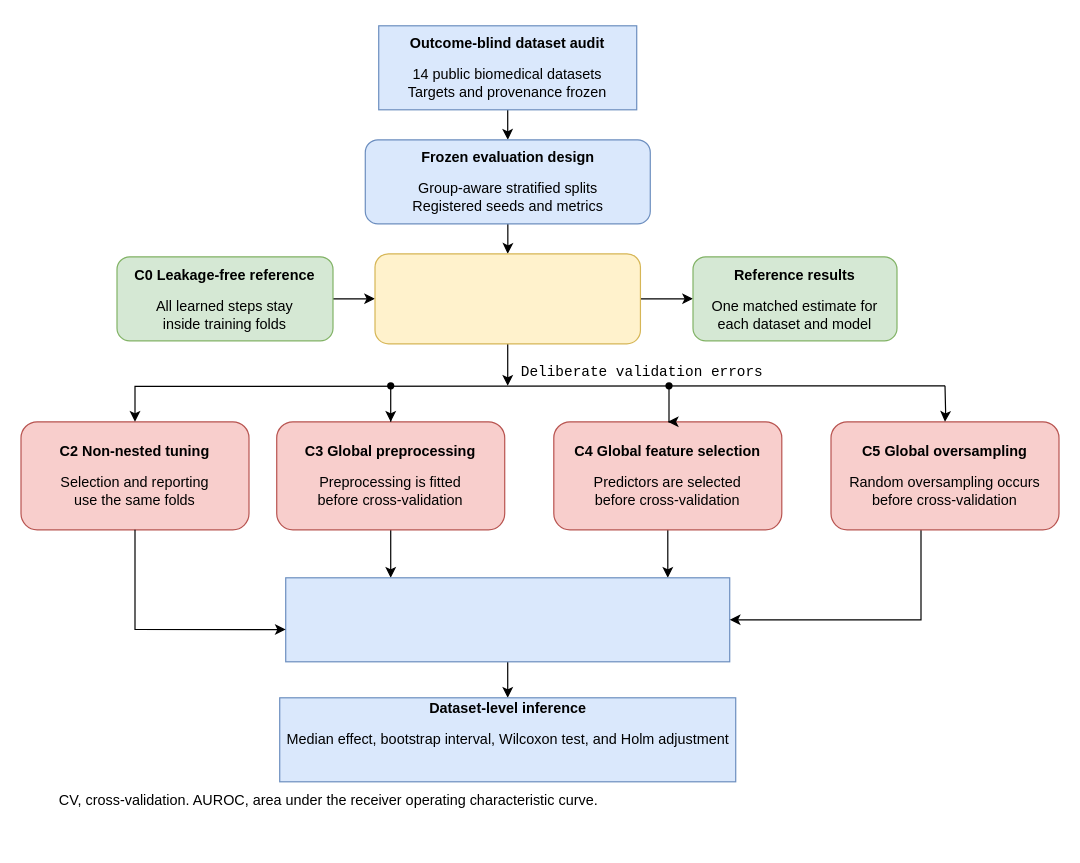
Some shapes in this 1080 by 863 pixel diagram are drawn without their labels. The centre of each missing label's shape, as x and y in pixels:
"Paired comparison with C0 ΔAUROC = comparison condition minus matched reference" belongs at point (507, 619).
"Repeated nested CV Inner tuning and thresholding Outer assessment" belongs at point (507, 298).
